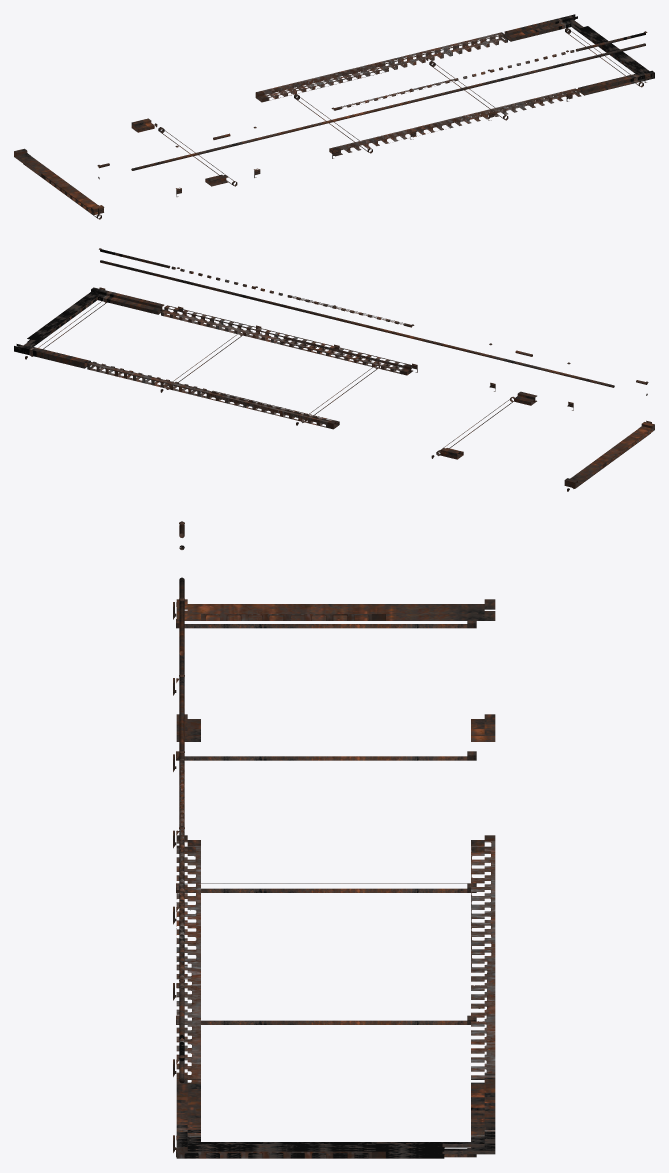
Rendered from Pasarela_Recta_Escalera.fbx.
3 renders of one model, top to bottom at view 1: azimuth 30°, elevation 25°; view 2: azimuth 150°, elevation 25°; view 3: azimuth 270°, elevation 25°, orthographic. The views are drawn at different scales.
Parts seen in each view (by area): view 1: Pa Exportar; view 2: Pa Exportar; view 3: Pa Exportar.
Part boxes in pixels (x1,y1,x2,y2): Pa Exportar: (14,14,654,219); Pa Exportar: (14,248,654,491); Pa Exportar: (173,521,495,1158).
Size of the model in its own units: 1625 by 148 by 405.
Materials: 1 (1 with a texture image).
